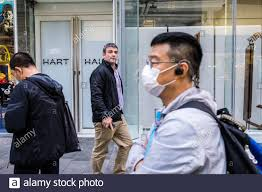no-mask: (101, 39, 121, 65)
with-mask: (139, 35, 204, 98), (7, 53, 41, 91)
